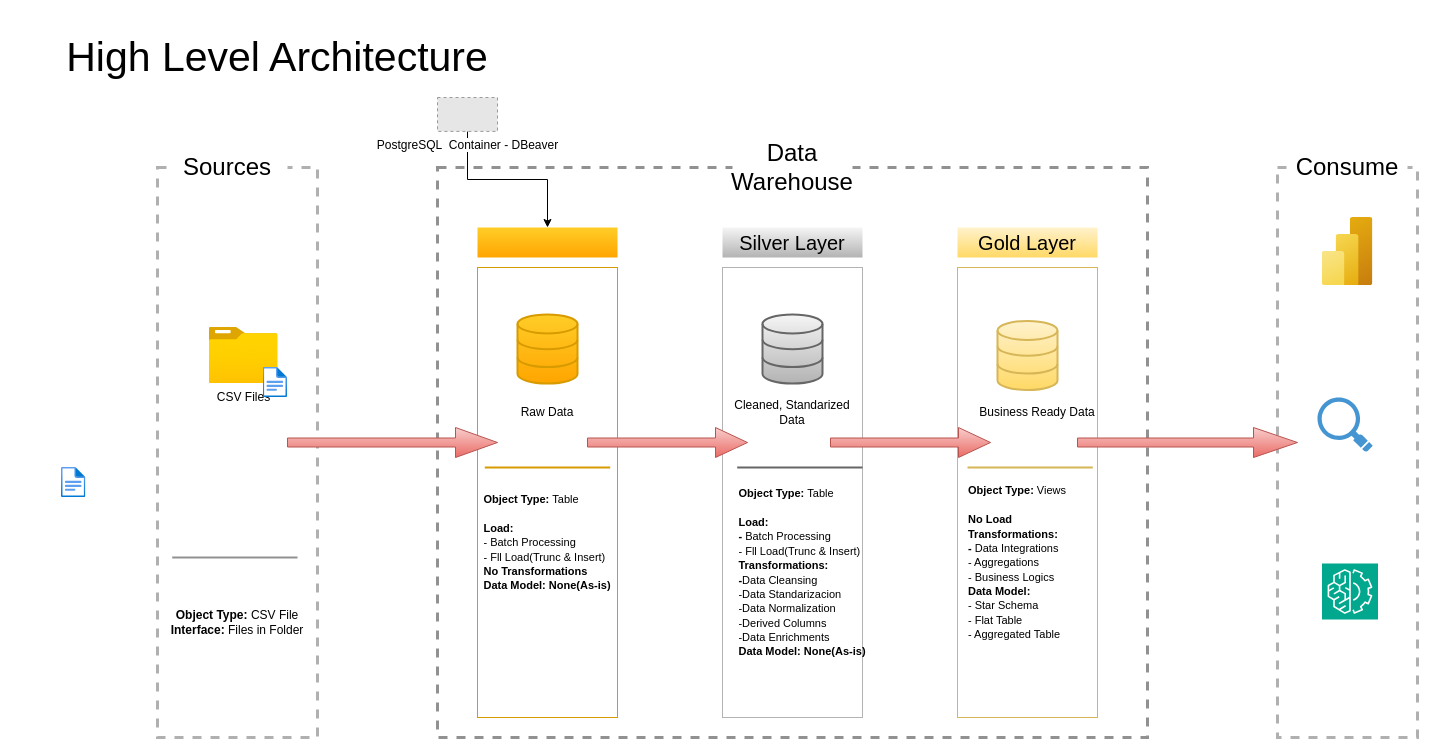
The diagram is 1436 pixels wide and 756 high, and some of its shapes have lost their labels. Grey dashed boxes stand in for pictures. The shapes that lost their labels are listed below. From the top down, each one's centre as x and y in pixels, then its label:
pixel 547 242: Bronze Layer
pixel 1347 251: Bi & Reporting
pixel 1344 424: Ad-Hoc SQL Queries
pixel 1349 591: Machine Learning
